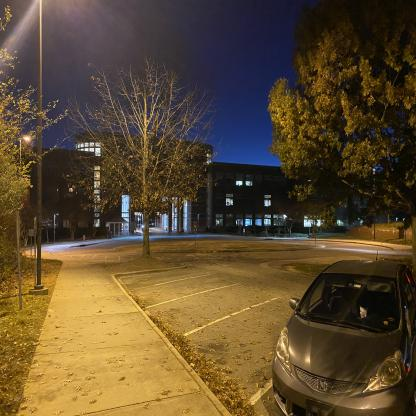eb2: (6, 132, 416, 236)
